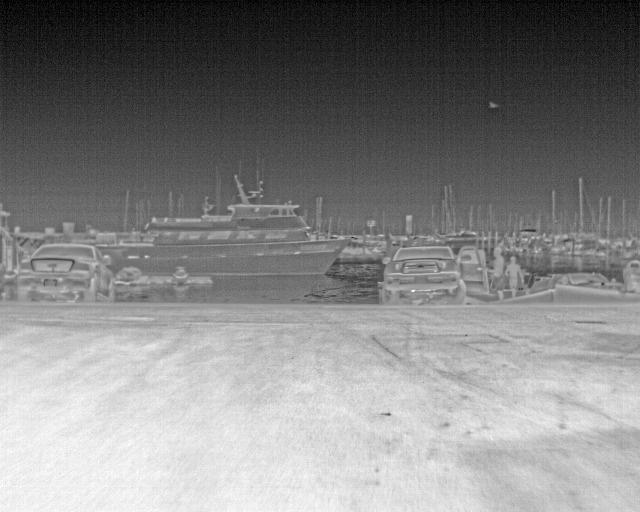bicycle: (378, 243, 487, 304), (15, 241, 117, 302)
empty: (486, 245, 506, 300), (504, 255, 526, 299)
